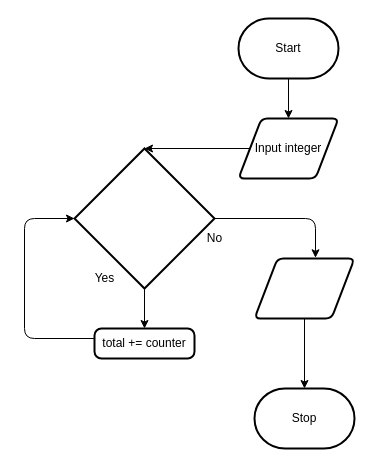
Some shapes in this 373 by 466 pixel diagram are drawn without their labels. Each missing label, with the box of its shape:
For (let counter =0; counter <= integer; counter++): (73, 147, 215, 289)
print "total": (253, 257, 355, 319)
